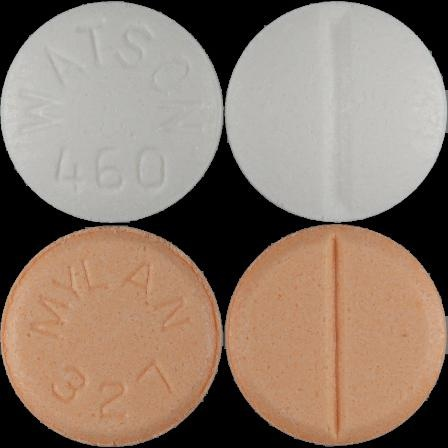67046-235: (0, 0, 224, 224)
